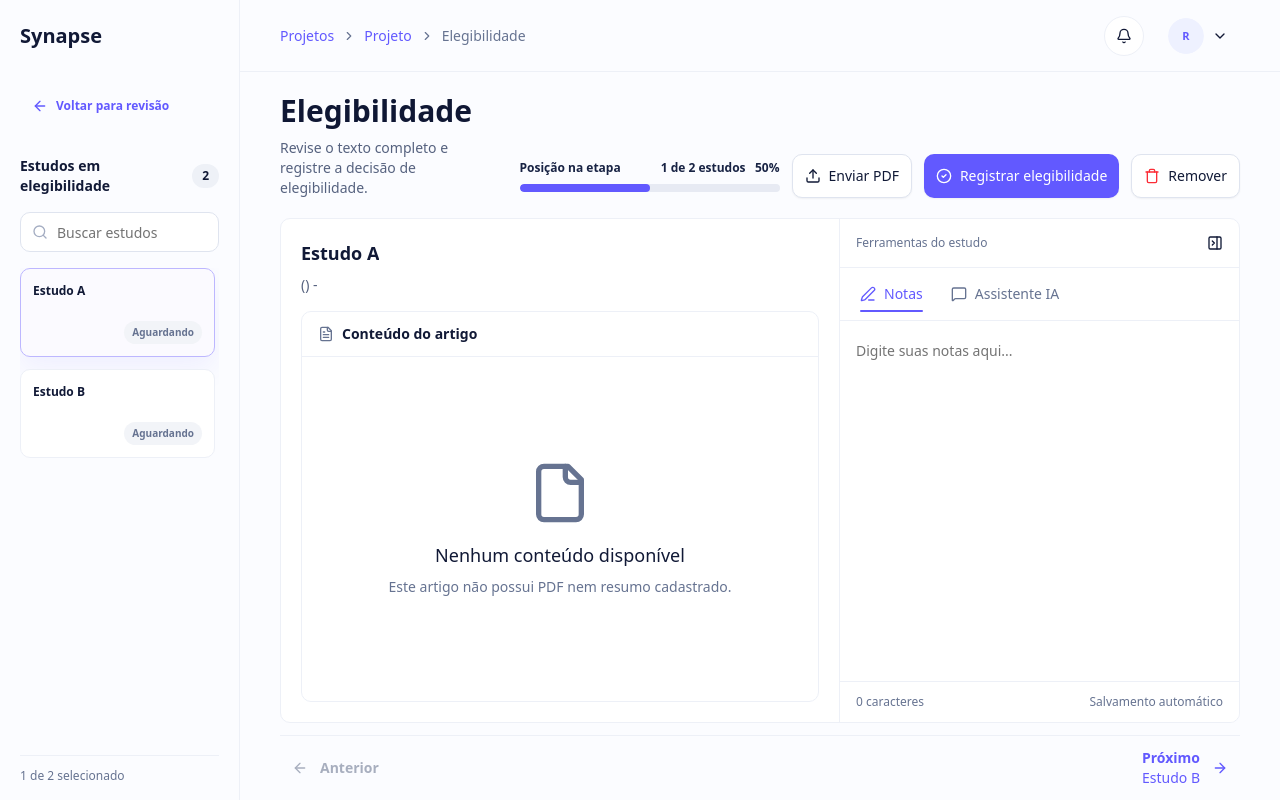
it: keeps navigation usable after a failed study load and retries in place
The width and height of the screenshot is (1280, 800).
Click the button "Estudo B Aguardando": [118, 414] box [20,369,215,458]
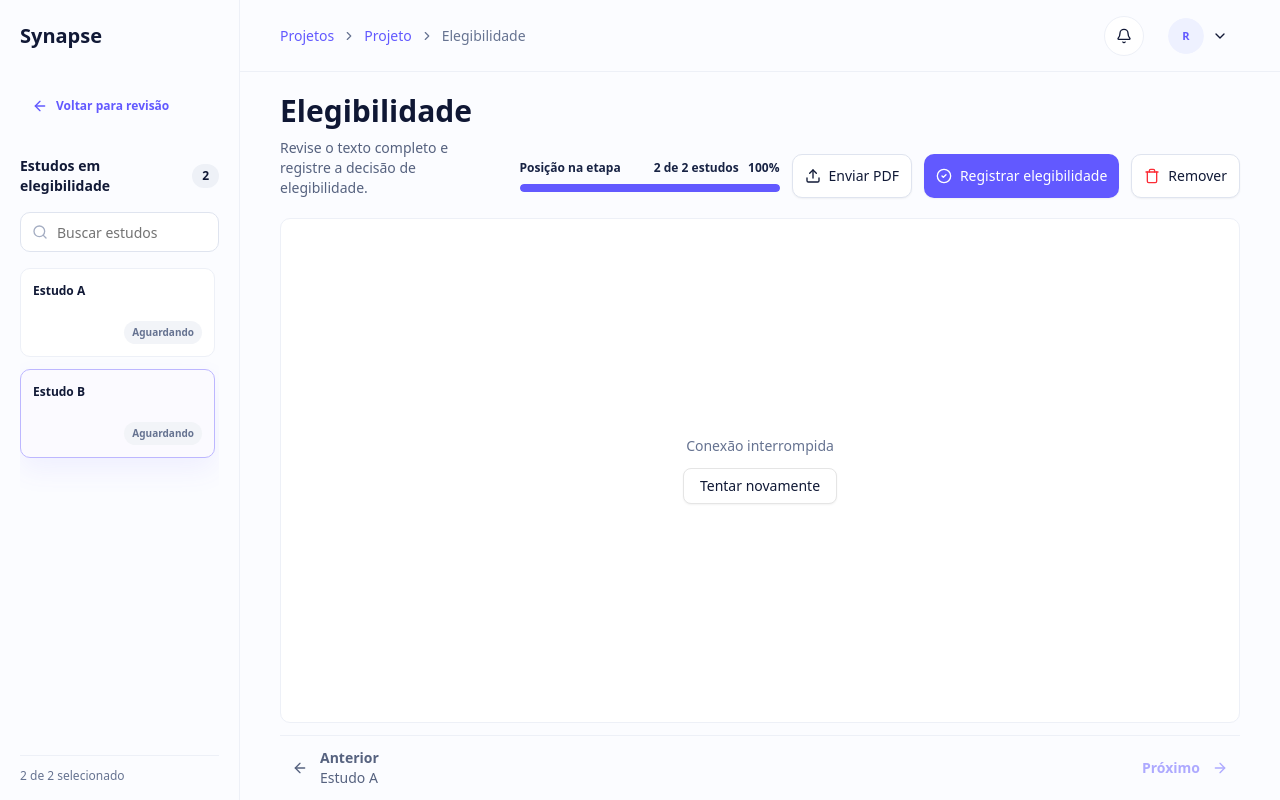
Check: the message shows "Conexão interrompida", box [686,436,834,455]
Click the button "Tentar novamente": [760, 486] box [683,468,837,504]
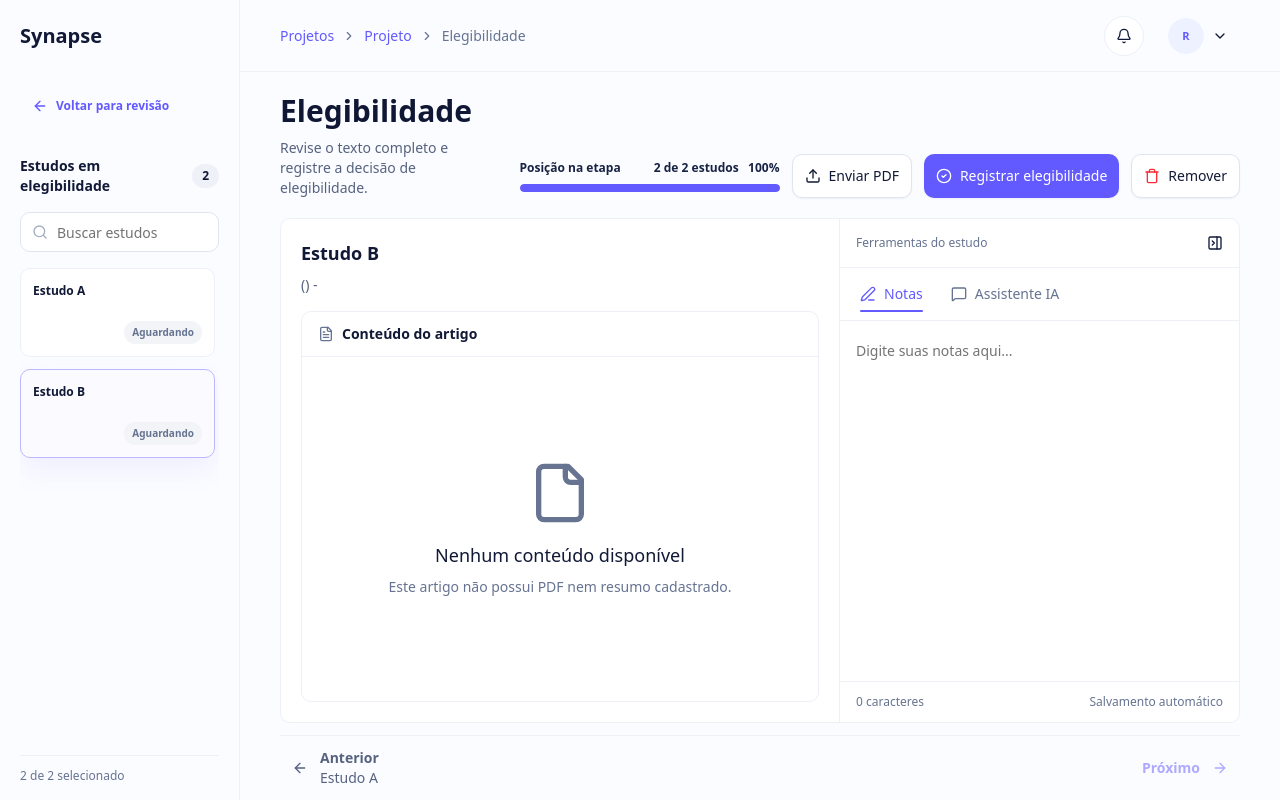
Check: the heading "Estudo B" is shown, box [301,238,379,266]
